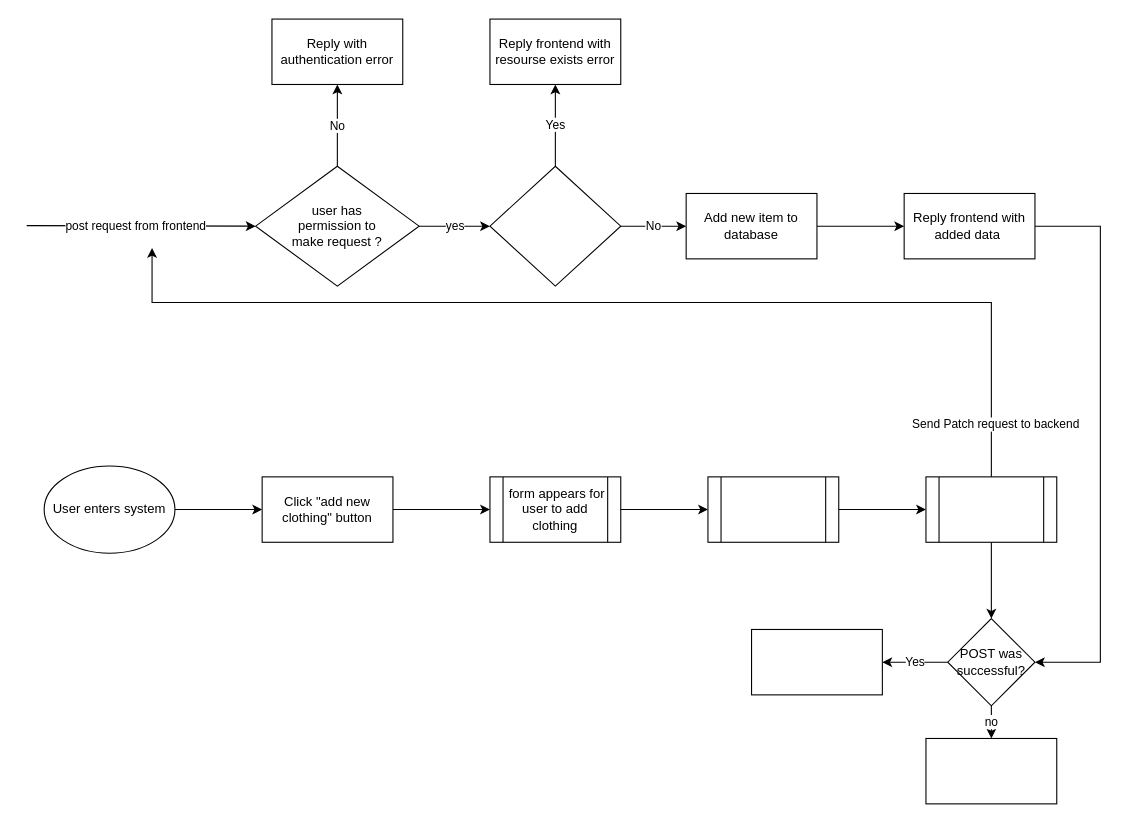
The diagram is 1128 pixels wide and 832 high, and some of its shapes have lost their labels. The shapes that lost their labels are listed below. From the top down, each one's centre as x and y in pixels, then its label:
At point (555, 225): "Clothing exists in database?".
At point (773, 509): "User makes update and click to add".
At point (991, 509): "makes a post request to backend".
At point (816, 661): "Update view with success message".
At point (991, 770): "Update view with error message".
